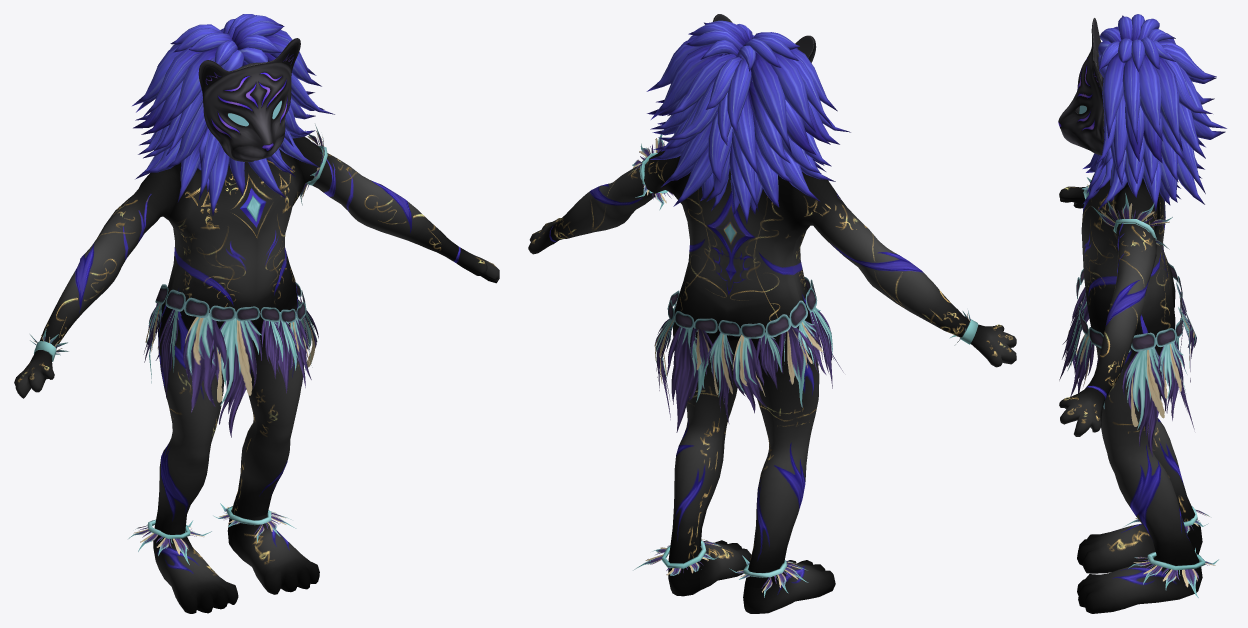
File: F_Puma.fbx
The picture shows the model from 3 angles, left to right: view 1: azimuth 30°, elevation 25°; view 2: azimuth 150°, elevation 25°; view 3: azimuth 270°, elevation 25°; orthographic projection.
Visible parts, largest first — view 1: F_Puma, F_Puma_Outfit, F_PumaMask; view 2: F_Puma, F_Puma_Outfit; view 3: F_Puma, F_Puma_Outfit, F_PumaMask.
Boxes of the visible parts, box(x1,y1,x2,y2) form: F_Puma: box(14, 14, 499, 613); F_Puma_Outfit: box(30, 124, 327, 564); F_PumaMask: box(198, 38, 300, 162); F_Puma: box(528, 20, 1016, 613); F_Puma_Outfit: box(632, 134, 978, 597); F_Puma: box(1059, 14, 1226, 613); F_Puma_Outfit: box(1059, 177, 1218, 598); F_PumaMask: box(1058, 18, 1104, 155).
Bounding box in the file's own units: 174 × 194 × 59.57.
3 materials, 3 textured.
